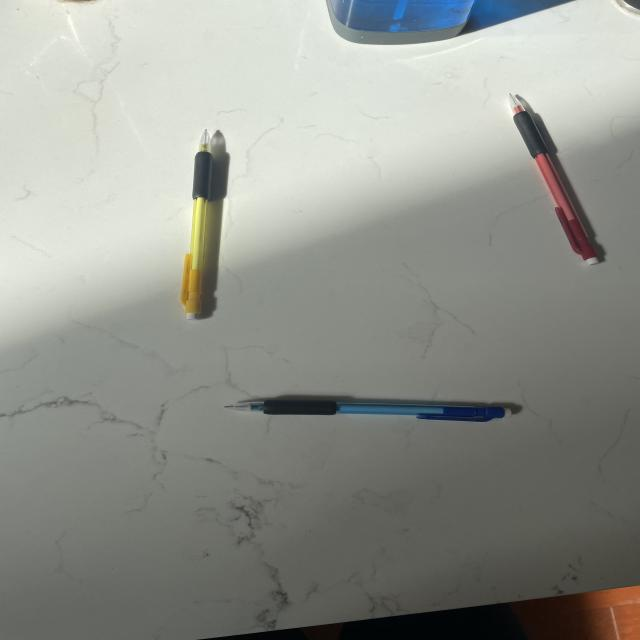mechanical-pencils: (503, 90, 611, 281), (215, 389, 525, 430), (178, 128, 230, 322)
